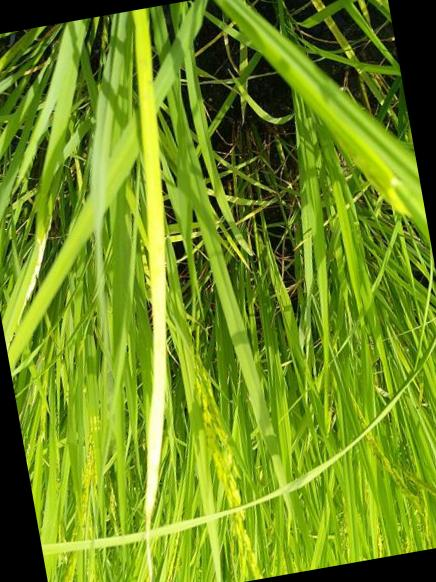Leaf Blight: (130, 8, 168, 516)
